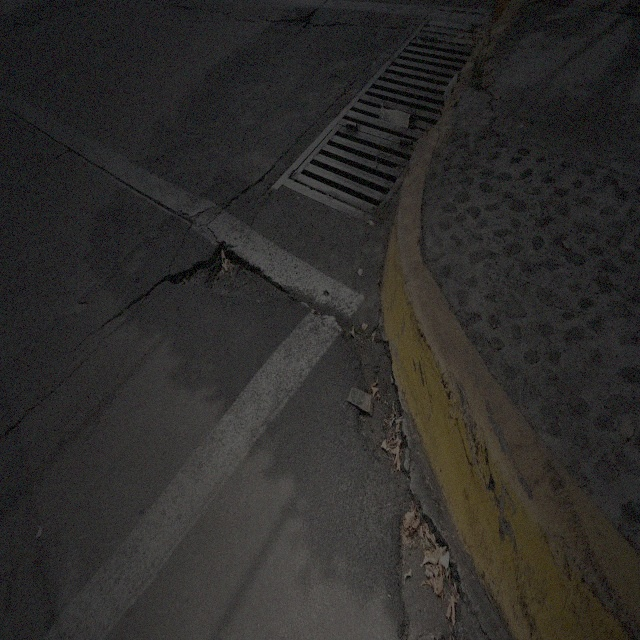pothole: (388, 494, 482, 635), (346, 319, 415, 481), (168, 238, 289, 310)
